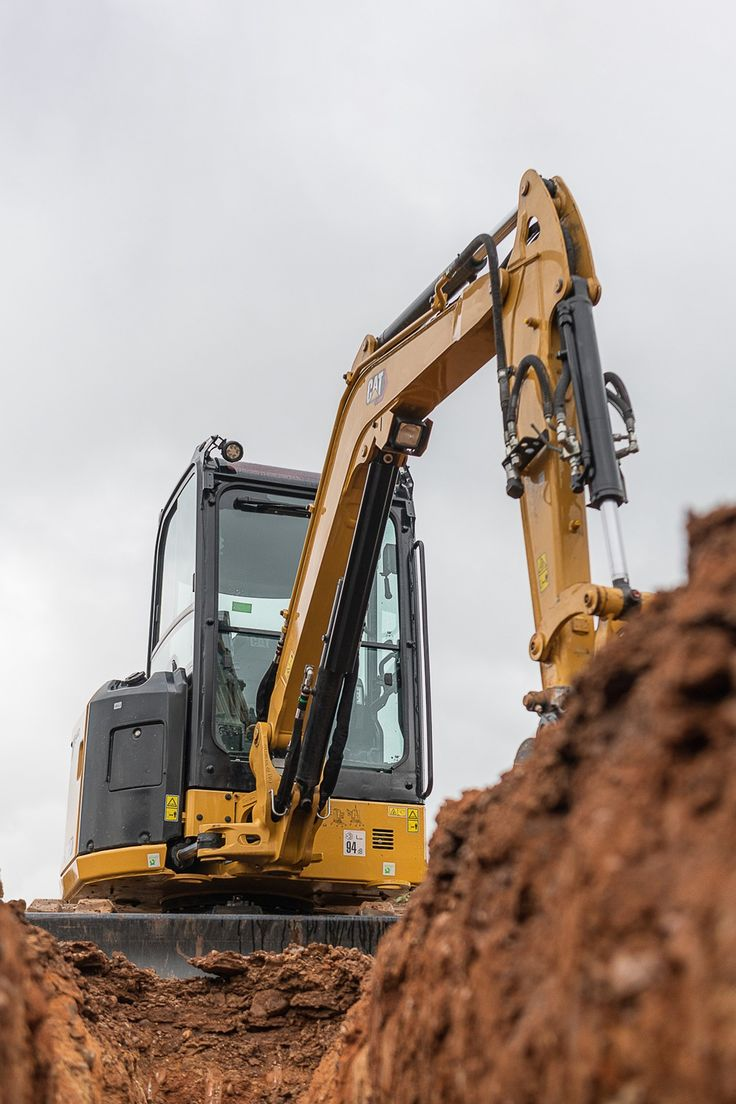excavator: (45, 148, 635, 1018)
